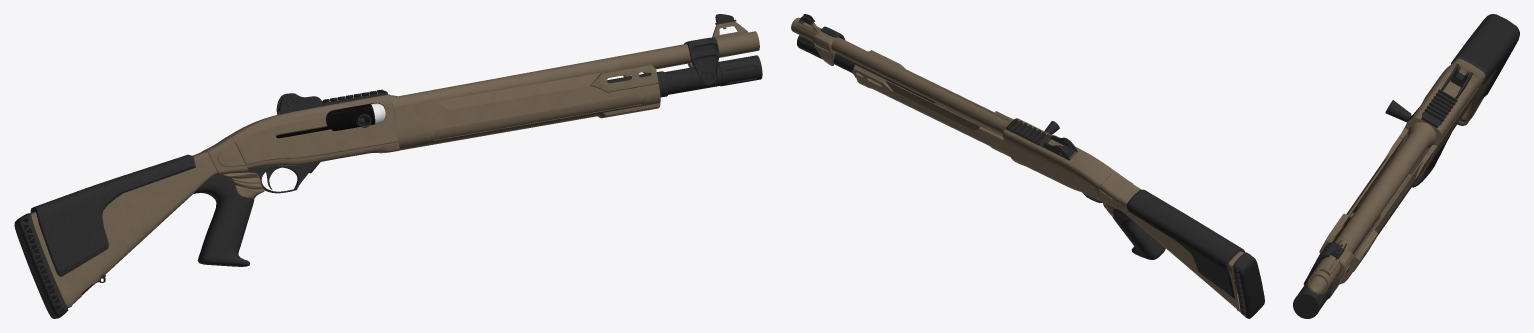
File: sg-semi.glb
The picture shows the model from 3 angles, left to right: view 1: azimuth 30°, elevation 25°; view 2: azimuth 150°, elevation 25°; view 3: azimuth 270°, elevation 25°; orthographic projection. The views are drawn at different scales.
Size of the model in its own units: 0.9083 by 0.2558 by 0.2433.
1 material, 1 textured.
